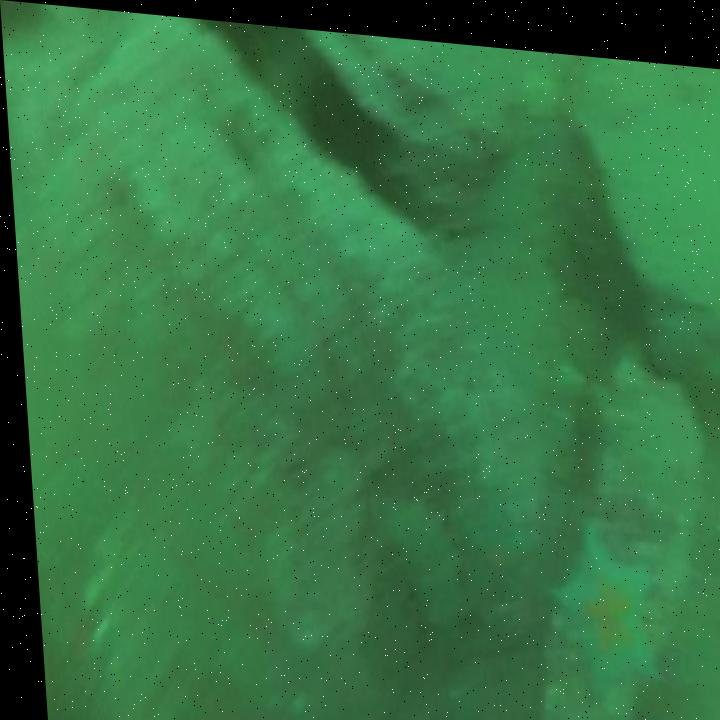echinus: (305, 62, 380, 165)
starfish: (539, 513, 657, 691), (453, 482, 535, 595)
